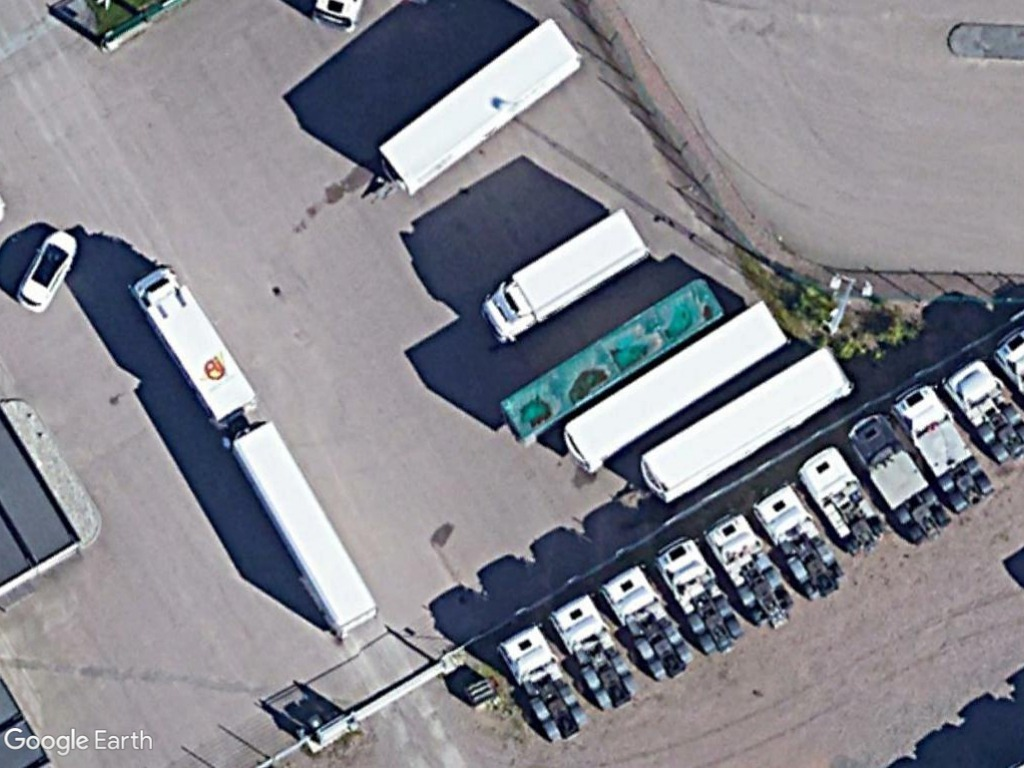car: (16, 224, 79, 315)
truck: (468, 205, 650, 351), (120, 261, 261, 433)
